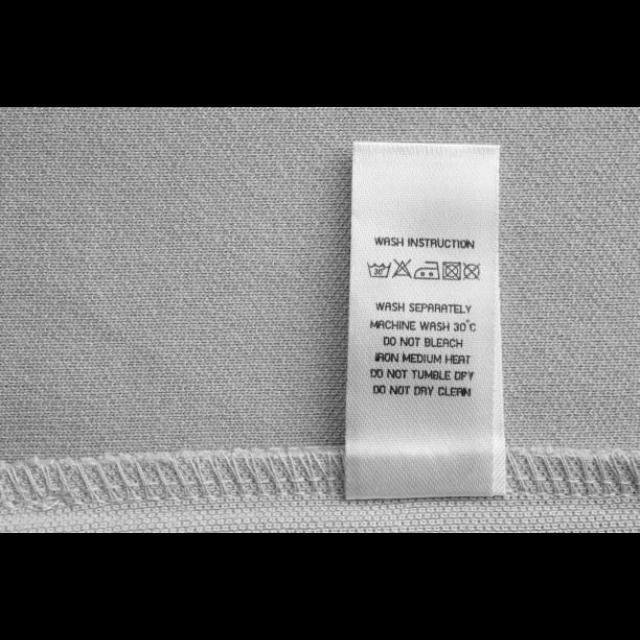30C: (365, 260, 393, 280)
DN_bleach: (390, 257, 414, 281)
DN_dry_clean: (461, 260, 482, 282)
DN_tumble_dry: (440, 259, 462, 283)
iron_medium: (413, 259, 441, 281)
